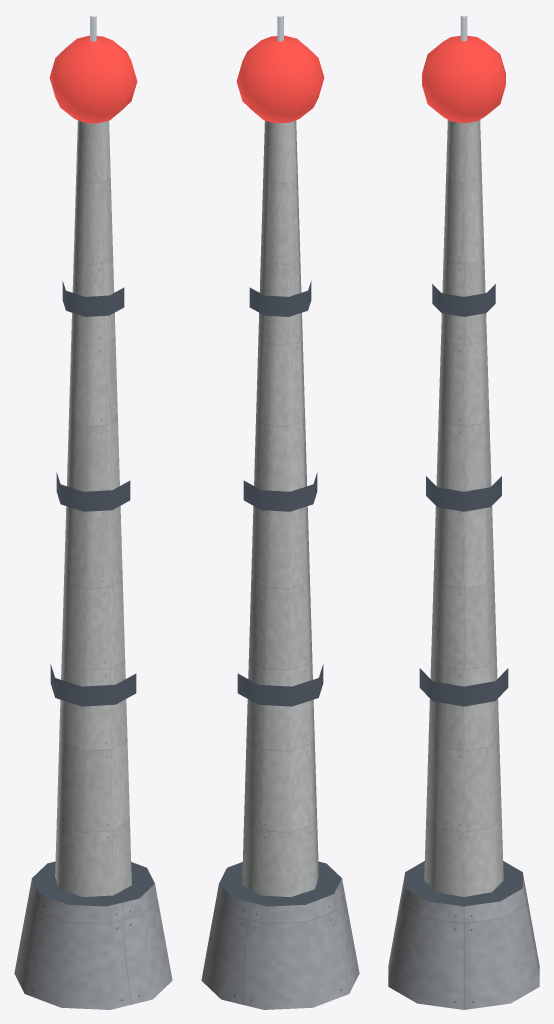
File: prop_beacon_tower.glb
3 views of the same model, side by side, from view 1: azimuth 30°, elevation 25°; view 2: azimuth 150°, elevation 25°; view 3: azimuth 270°, elevation 25° (orthographic).
Visible parts, largest first — view 1: prop_beacon_tower_LOD0; view 2: prop_beacon_tower_LOD0; view 3: prop_beacon_tower_LOD0.
Part boxes in pixels (<box>): prop_beacon_tower_LOD0: <box>14,15,172,1009</box>; prop_beacon_tower_LOD0: <box>201,15,359,1009</box>; prop_beacon_tower_LOD0: <box>388,16,539,1009</box>.
Size of what is drawn, in the model's own units: 1.8 by 12 by 1.71.
Materials: 2 (2 with a texture image).
